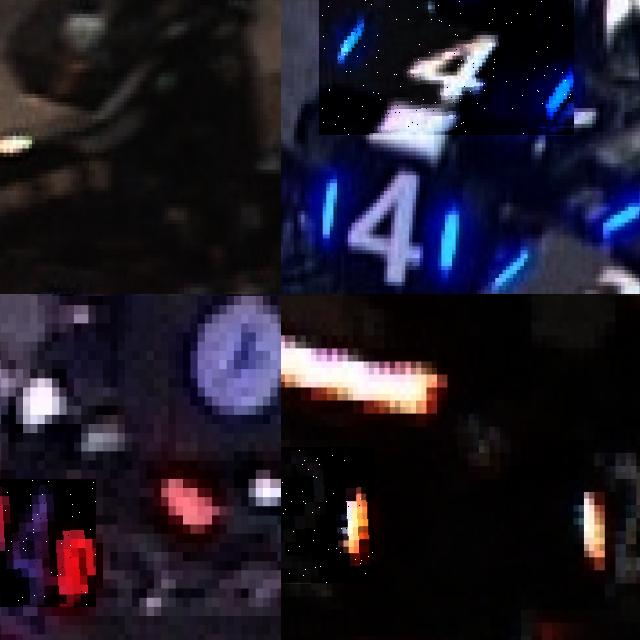B4: (318, 0, 574, 135), (308, 159, 459, 290), (488, 242, 640, 294)
R2: (281, 446, 373, 583)
R4: (0, 479, 95, 607)
